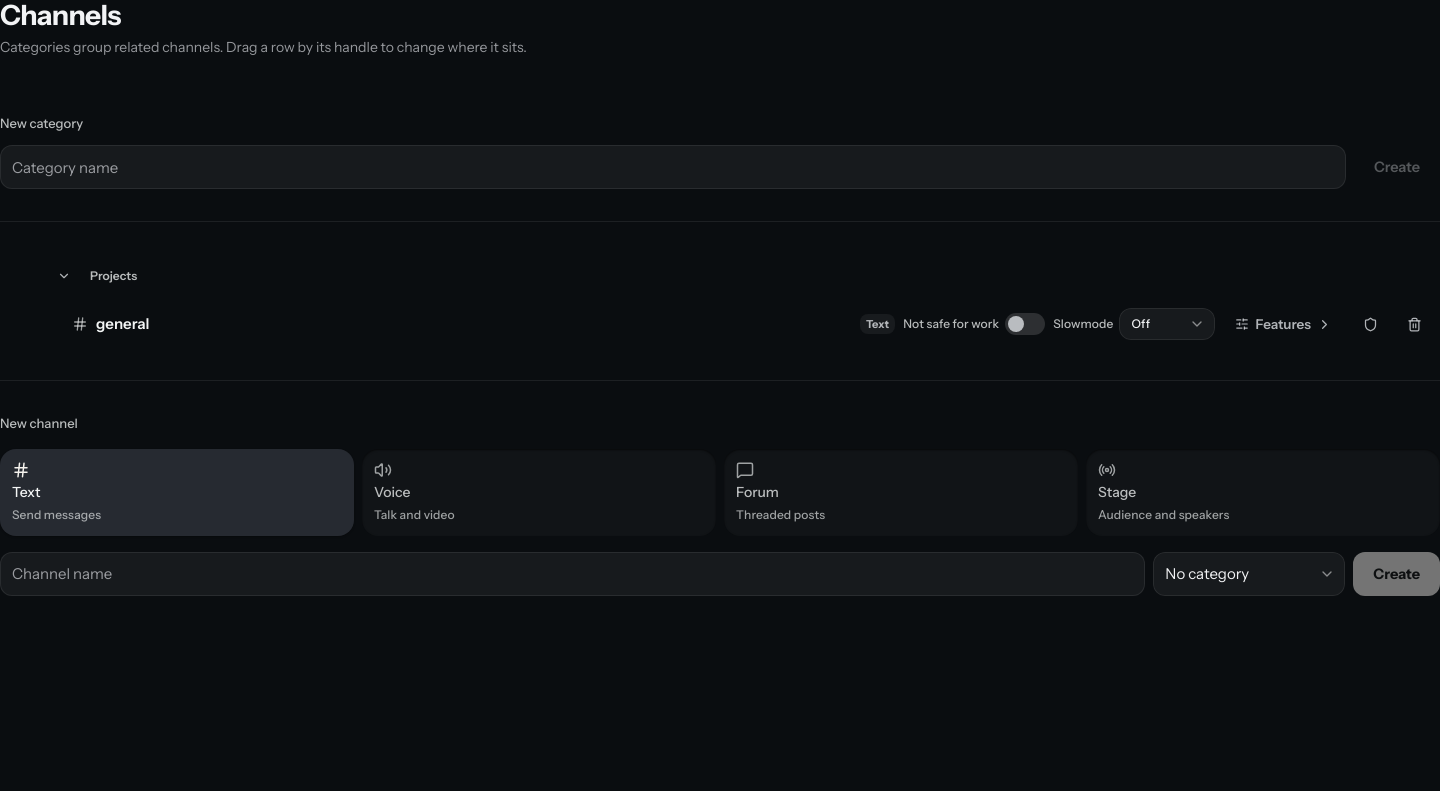
Test: ChannelManager › makes advanced channel features explicit and explains their scope
What coordinates should you click on to do the following:
click the button with aria-label "Show advanced features for general"
I would click on:
 (1284, 324)
Its box is [1224,308,1344,340].
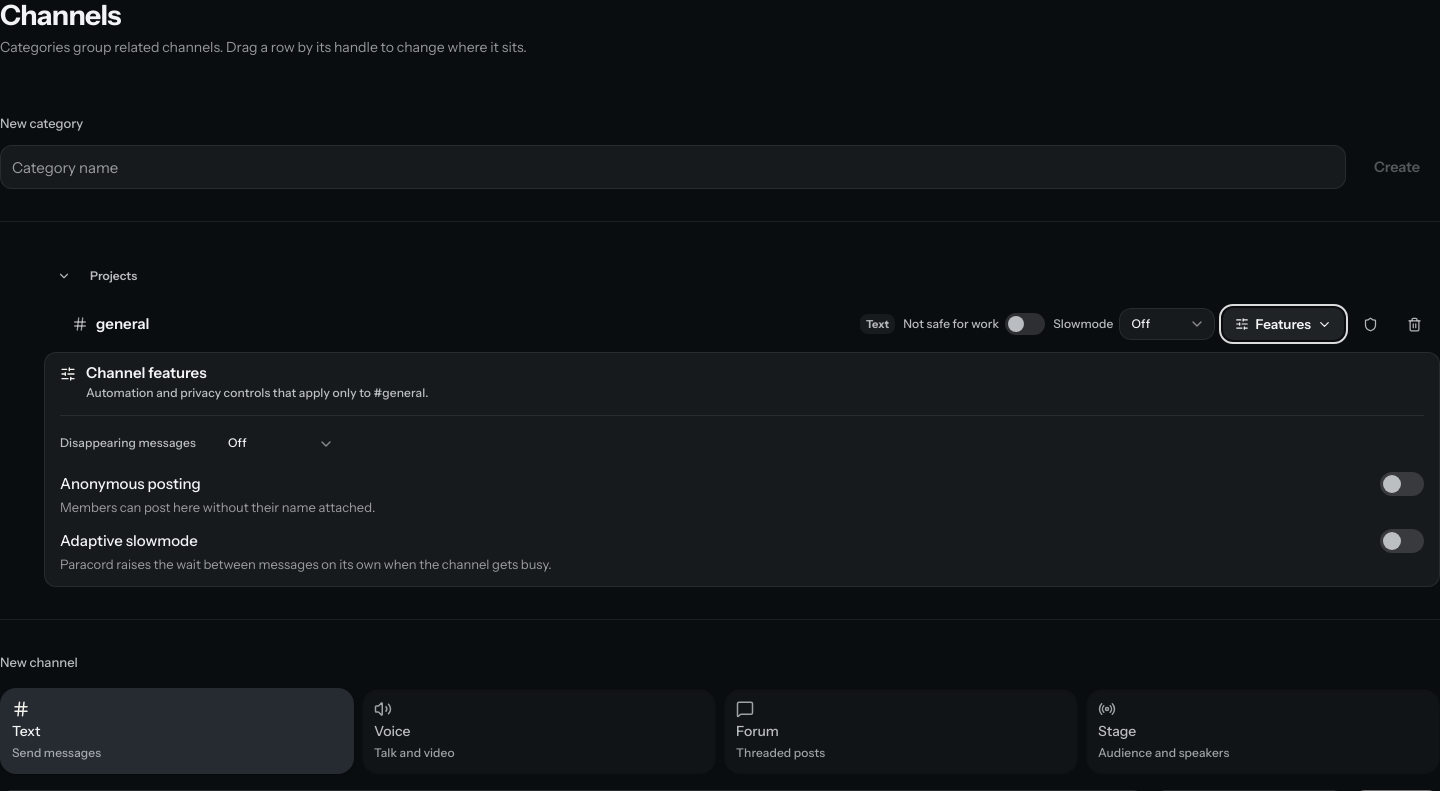
Now the heading "Channel features" is shown, box [86,363,207,382]
Now the text "Automation and privacy controls that apply only to #general." is shown, box [86,384,429,403]
